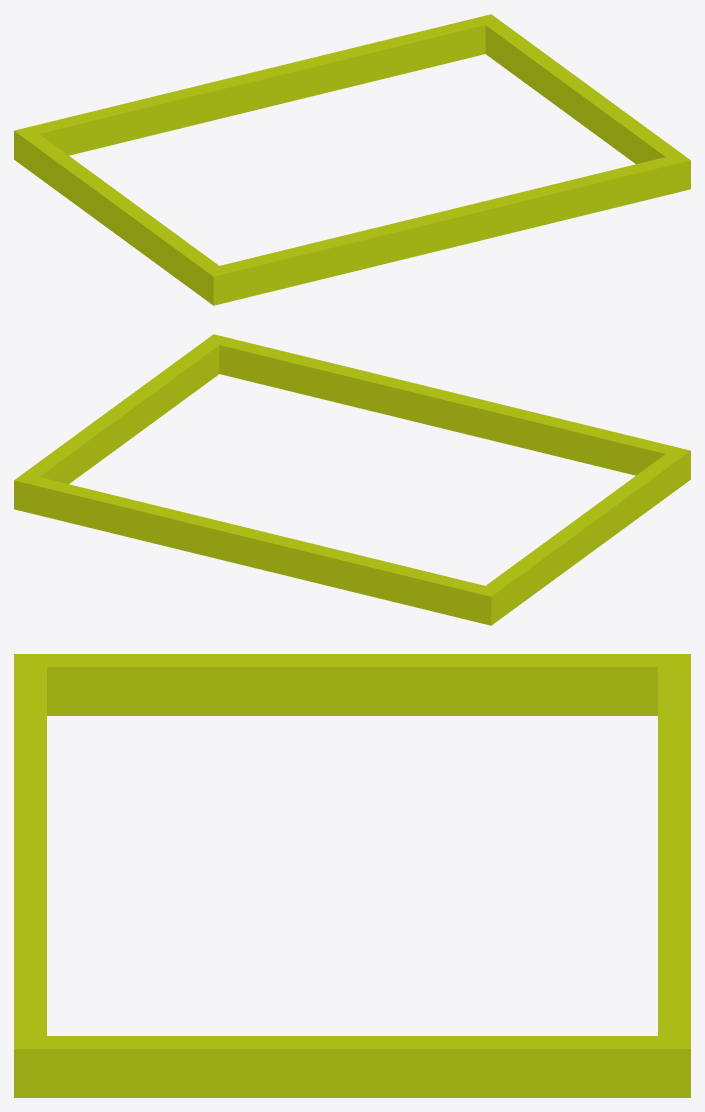
Rendered from Hit Note (Yellow).glb.
3 views of the same model, one above another, from view 1: azimuth 30°, elevation 25°; view 2: azimuth 150°, elevation 25°; view 3: azimuth 270°, elevation 25° (orthographic). The views are drawn at different scales.
Visible parts, largest first — view 1: Cube.001; view 2: Cube.001; view 3: Cube.001.
Part boxes in pixels (<box>): Cube.001: <box>14,14,690,305</box>; Cube.001: <box>14,334,690,625</box>; Cube.001: <box>14,654,690,1097</box>.
Size of the model in its own units: 1.72 by 0.1 by 1.25.
